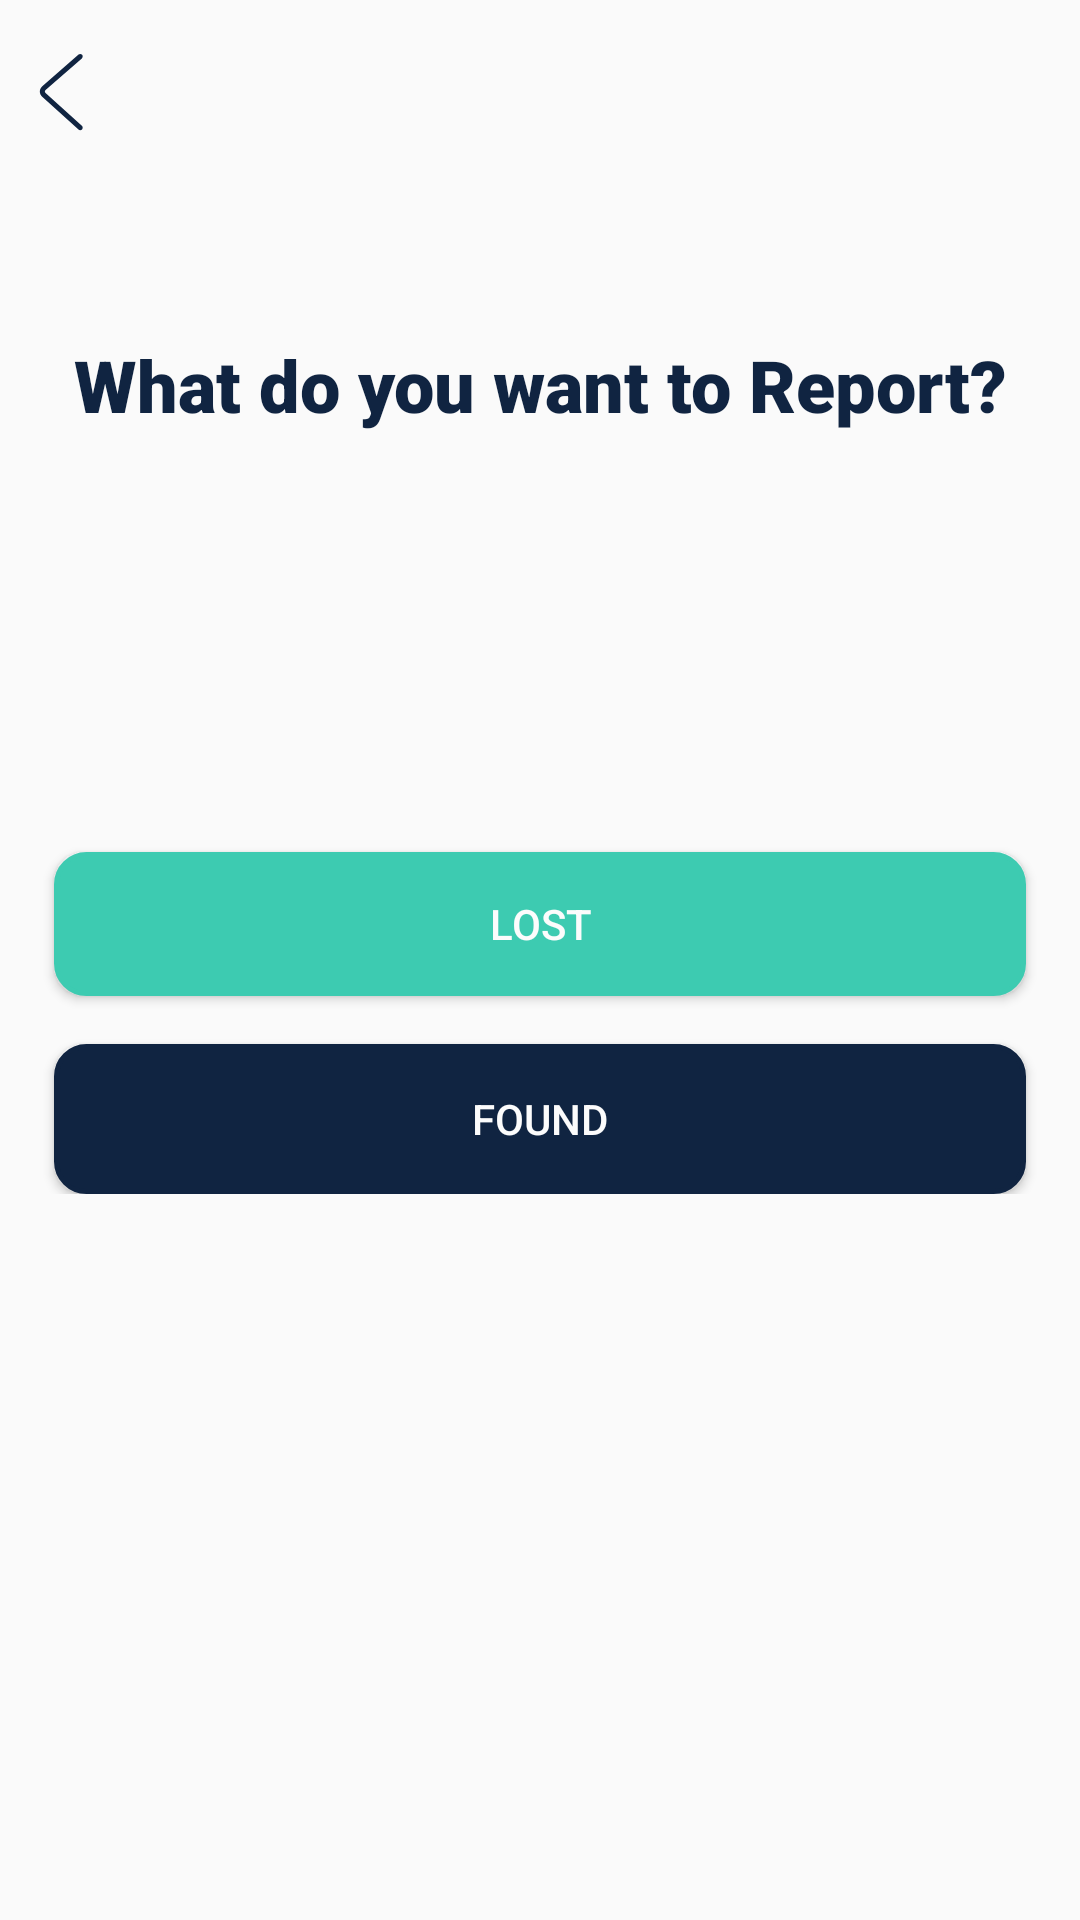

Icon click points for this 1080w x 1920h phone screenshot, format [x,y]:
previous back arrow: [61,92]
